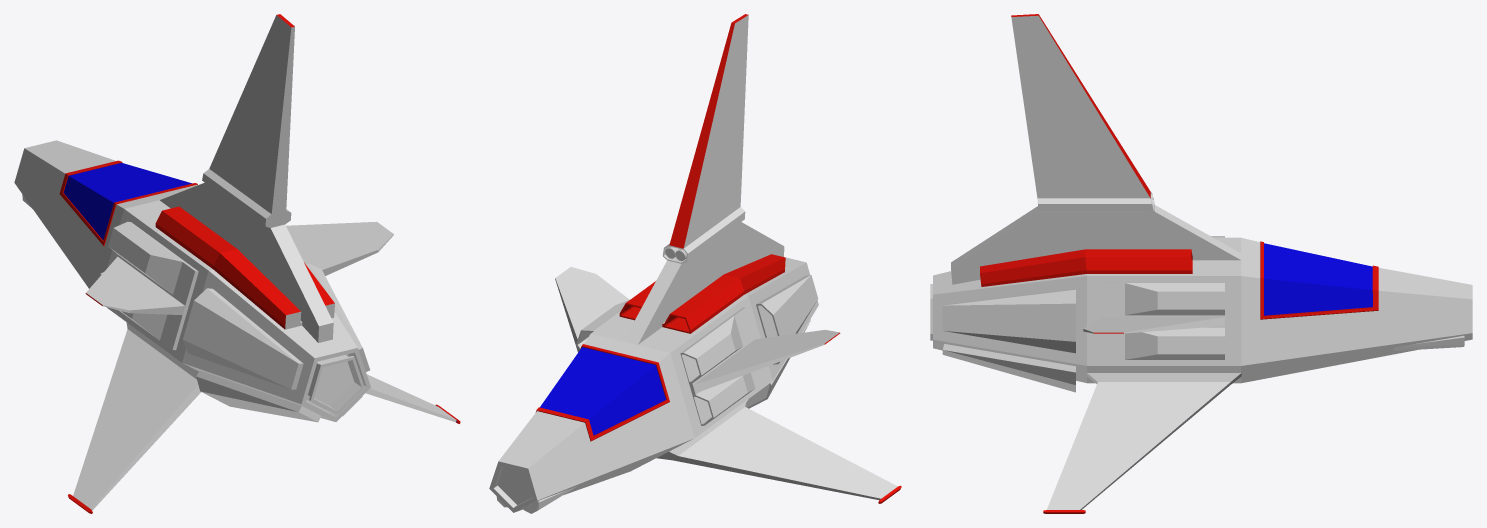
The model's file is buzzer.fbx.
3 views of the same model, side by side, from view 1: azimuth 30°, elevation 25°; view 2: azimuth 150°, elevation 25°; view 3: azimuth 270°, elevation 25° (orthographic). The views are drawn at different scales.
Parts seen in each view (by area): view 1: buzzer.mesh, buzzer.mesh.window; view 2: buzzer.mesh, buzzer.mesh.window; view 3: buzzer.mesh, buzzer.mesh.window.
Part boxes in pixels (bbox=[...]): buzzer.mesh: bbox=[14, 14, 460, 513]; buzzer.mesh.window: bbox=[63, 163, 192, 239]; buzzer.mesh: bbox=[489, 14, 901, 513]; buzzer.mesh.window: bbox=[540, 347, 665, 435]; buzzer.mesh: bbox=[930, 14, 1472, 513]; buzzer.mesh.window: bbox=[1264, 243, 1372, 315].
Size of what is drawn, in the model's own units: 507 by 596 by 703.
